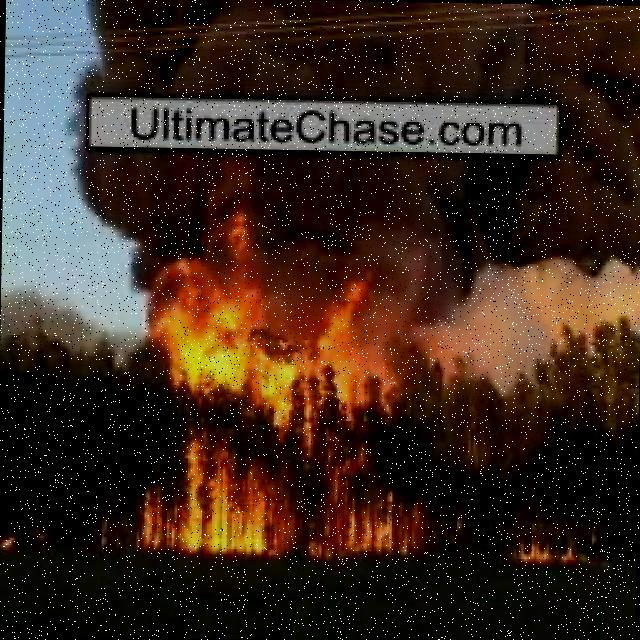Fire: (147, 208, 433, 558), (513, 522, 596, 567)
